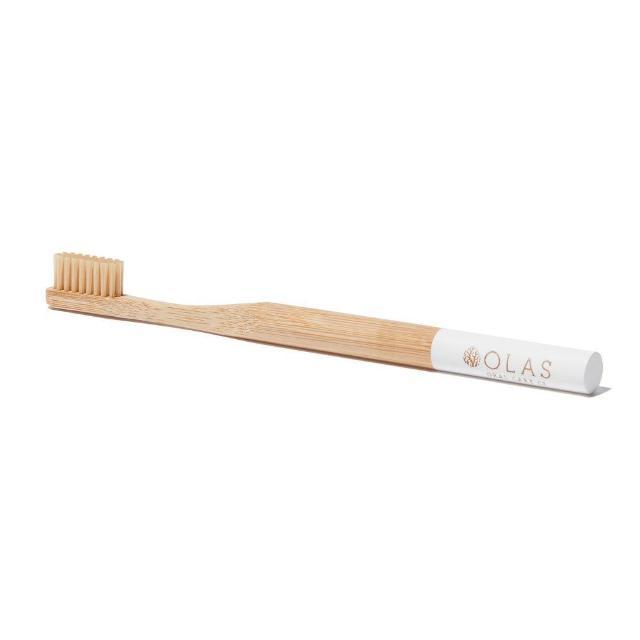toothbrush: (42, 233, 612, 412)
